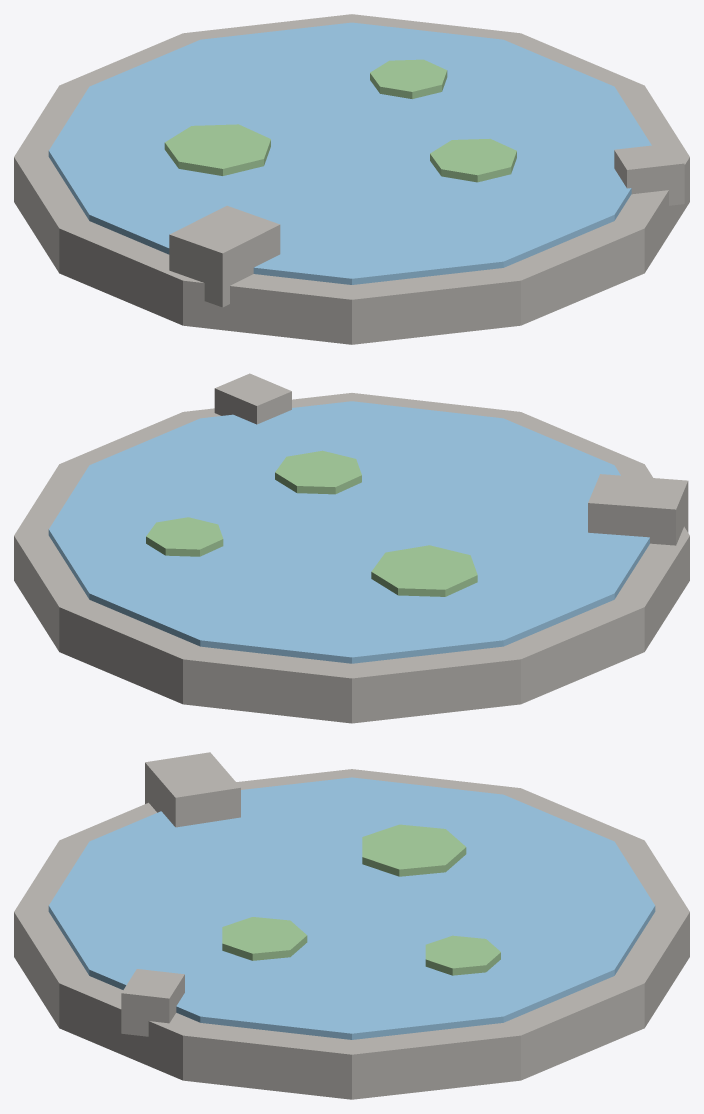
File: pond.glb
3 renders of one model, top to bottom at view 1: azimuth 30°, elevation 25°; view 2: azimuth 150°, elevation 25°; view 3: azimuth 270°, elevation 25°, orthographic.
Visible parts, largest first — view 1: pond; view 2: pond; view 3: pond.
Part boxes in pixels (<box>): pond: <box>14,14,689,344</box>; pond: <box>14,373,689,723</box>; pond: <box>14,752,689,1099</box>.
Size of the model in its own units: 6.8 by 0.9 by 6.8.
